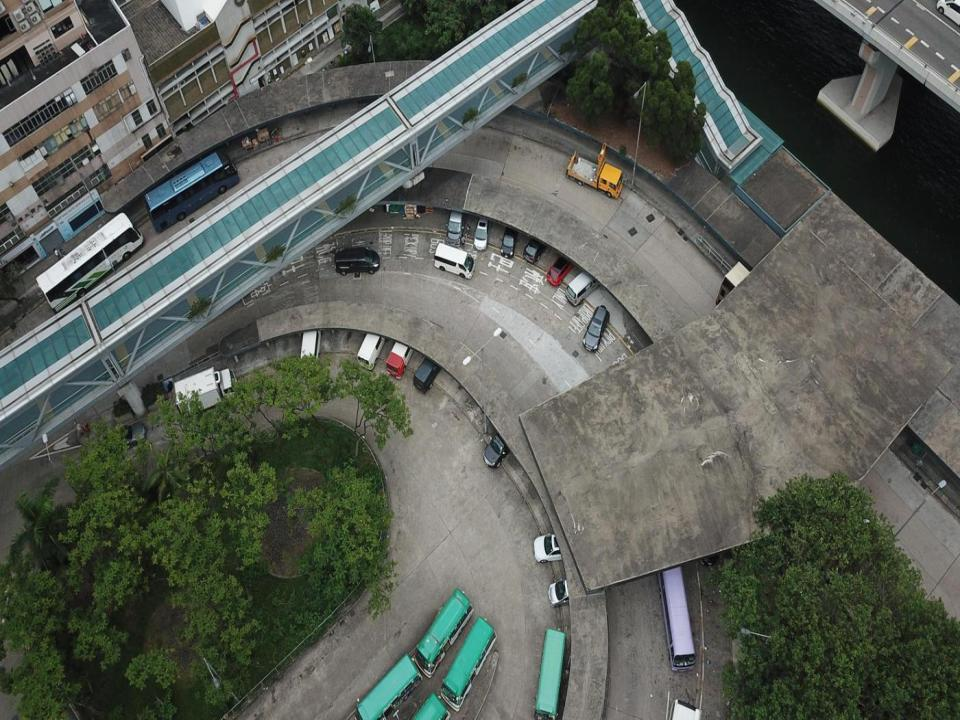bus: (32, 212, 144, 314), (146, 147, 240, 232), (438, 612, 498, 714), (411, 585, 476, 678), (350, 650, 421, 719), (656, 559, 698, 675), (530, 628, 572, 719)
car: (582, 305, 613, 353), (533, 529, 573, 563), (480, 428, 512, 470), (411, 354, 439, 394), (548, 574, 578, 608), (522, 232, 545, 264), (499, 226, 521, 257), (473, 216, 490, 252)
truck: (565, 142, 626, 201), (168, 372, 238, 414)
van: (355, 320, 388, 372), (434, 240, 474, 280), (564, 268, 602, 307), (332, 246, 381, 276), (296, 320, 322, 371), (386, 337, 414, 378), (545, 252, 576, 287), (446, 206, 465, 241)
